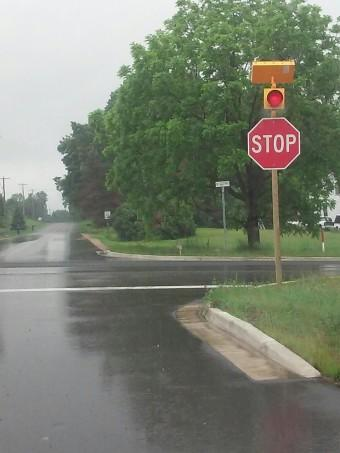Pole: (271, 171, 281, 285), (222, 187, 226, 248)
Sign: (250, 119, 301, 169)
